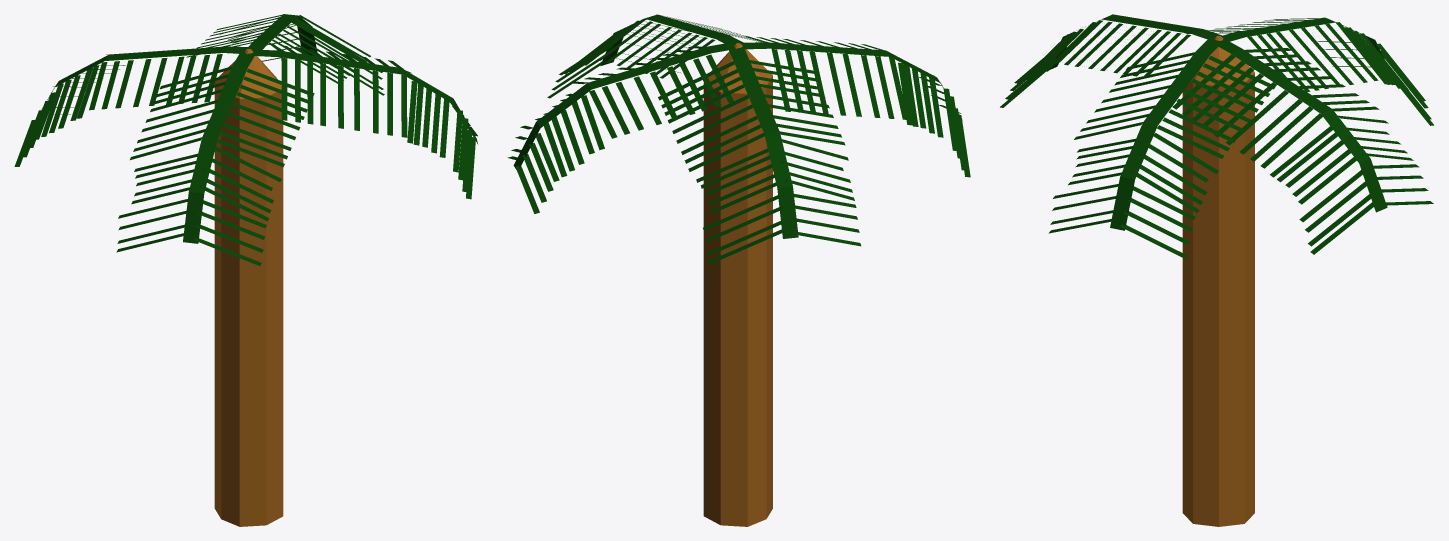
The model's file is tree13.obj.
3 views of the same model, side by side, from view 1: azimuth 30°, elevation 25°; view 2: azimuth 150°, elevation 25°; view 3: azimuth 270°, elevation 25° (orthographic). The views are drawn at different scales.
Visible parts, largest first — view 1: Cube, Plane.003_Plane.050, Plane.000_Plane.047, Plane.001_Plane.048, Plane.002_Plane.049; view 2: Cube, Plane.001_Plane.048, Plane.002_Plane.049, Plane.003_Plane.050, Plane.000_Plane.047; view 3: Cube, Plane.000_Plane.047, Plane.002_Plane.049, Plane.001_Plane.048, Plane.003_Plane.050.
Boxes of the visible parts, x1,y1,x2,y2 form: Cube: (214,49,283,526); Plane.003_Plane.050: (116,50,314,265); Plane.000_Plane.047: (248,44,477,199); Plane.001_Plane.048: (14,46,257,166); Plane.002_Plane.049: (186,14,384,95); Cube: (703,43,772,526); Plane.001_Plane.048: (658,43,861,264); Plane.002_Plane.049: (507,41,742,213); Plane.003_Plane.050: (734,36,970,177); Plane.000_Plane.047: (547,14,767,98); Cube: (1182,35,1254,526); Plane.000_Plane.047: (1048,36,1275,258); Plane.002_Plane.049: (1172,38,1433,254); Plane.001_Plane.048: (1185,17,1433,125); Plane.003_Plane.050: (1000,14,1248,107).
Size of the model in its own units: 4.01 by 4.58 by 3.79.
